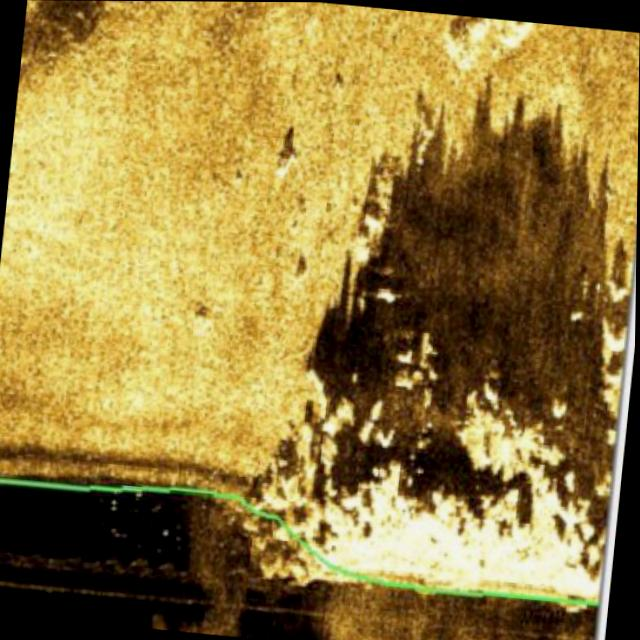bedrock group: (259, 319, 631, 616)
